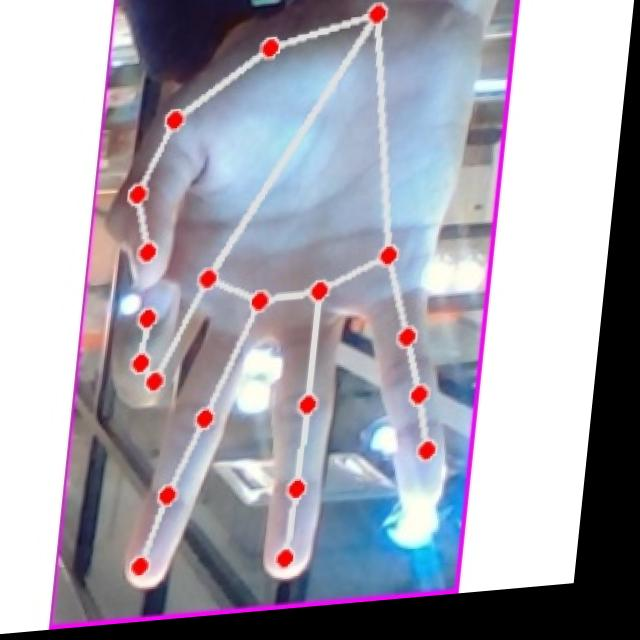F: (75, 0, 510, 607)
